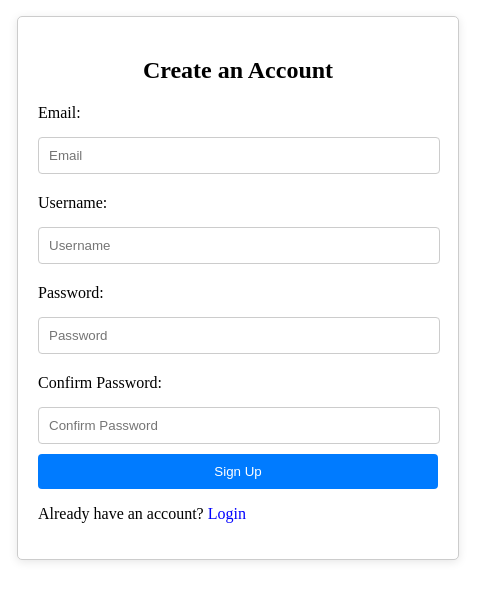
Scenario: SignUp Component › displays error message for mismatched passwords
In the field labelled "Email:": coordinates (239, 155) [38,137,440,174], type "test@example.com"
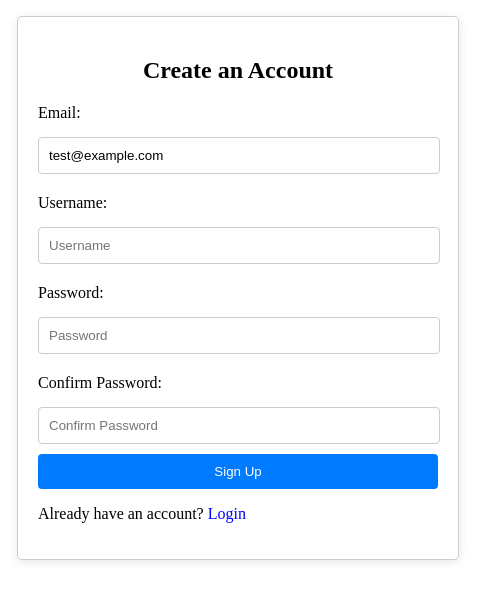
In the field labelled "Username:": coordinates (239, 245) [38,227,440,264], type "testuser"
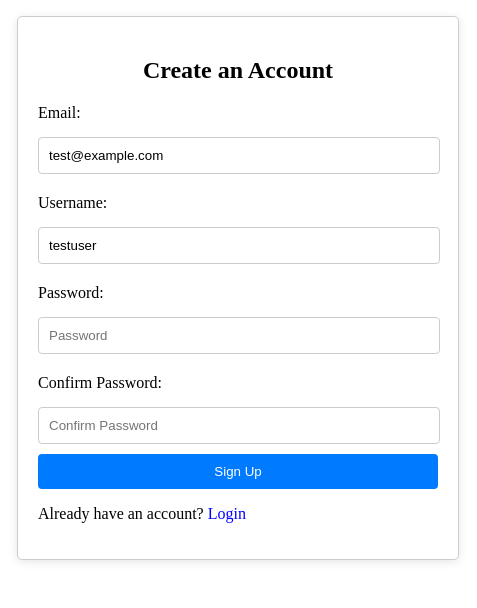
In the password field labelled "Password:": coordinates (239, 335) [38,317,440,354], type "password123"
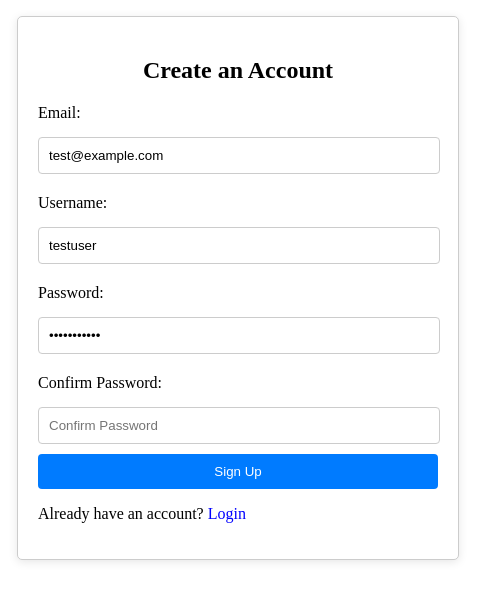
In the password field labelled "Confirm Password:": coordinates (239, 425) [38,407,440,444], type "password456"
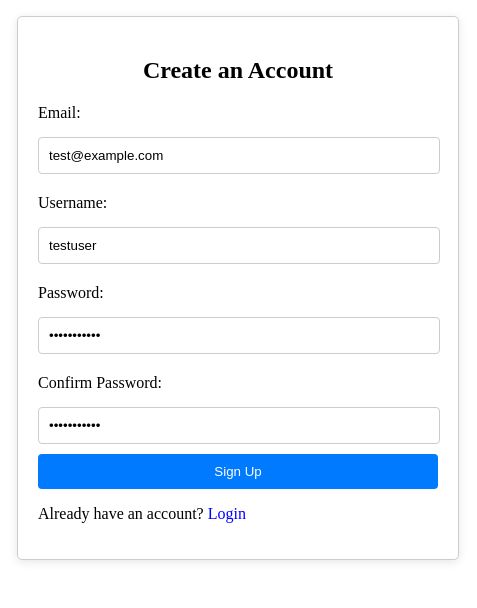
Click the button "Sign Up": coordinates (238, 471) [38,454,438,489]
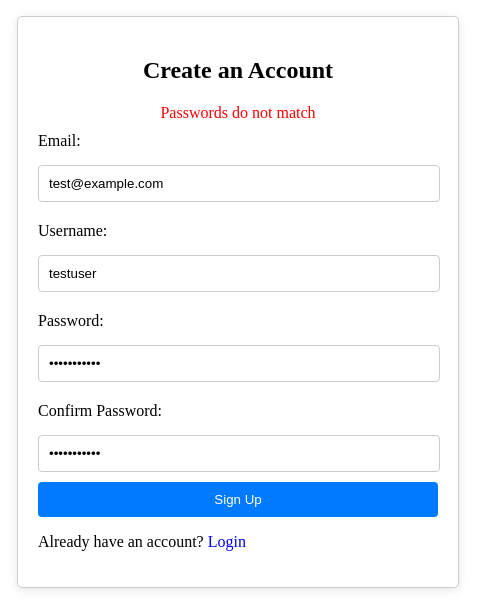
Check: the text "Passwords do not match" is shown, box [160,104,316,121]
